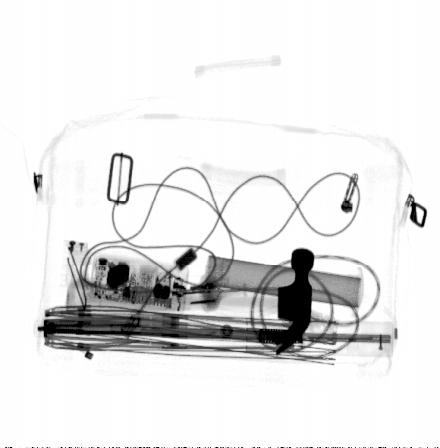Hammer: (67, 247, 315, 356)
